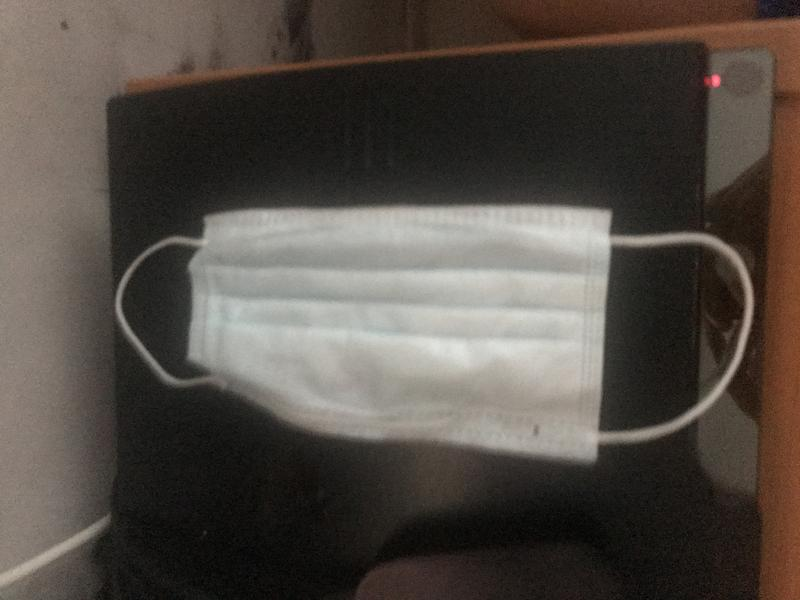medical_mask: (113, 205, 753, 464)
